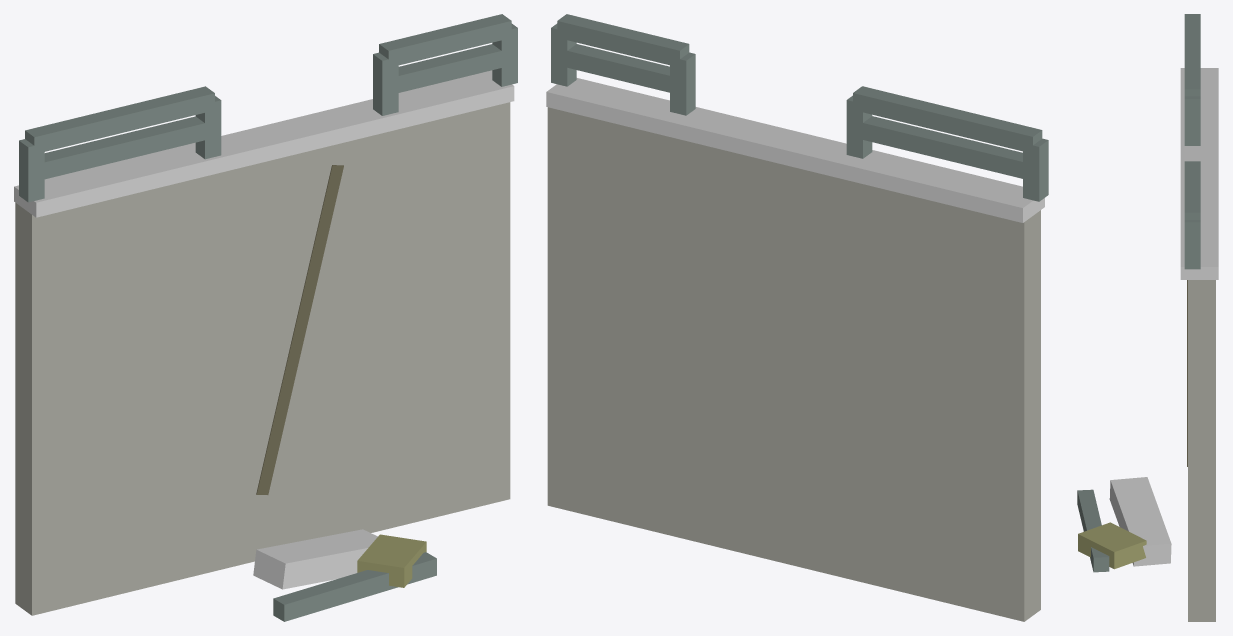
File: SM_MuroTrinchera_Muro_v3_Agrietado_LOD1.fbx
The picture shows the model from 3 angles, left to right: view 1: azimuth 30°, elevation 25°; view 2: azimuth 150°, elevation 25°; view 3: azimuth 270°, elevation 25°; orthographic projection. The views are drawn at different scales.
Parts seen in each view (by area): view 1: SM_muro_trinchera_v3_LOD1; view 2: SM_muro_trinchera_v3_LOD1; view 3: SM_muro_trinchera_v3_LOD1.
Part boxes in pixels (box(x1,y1,x2,y2)): SM_muro_trinchera_v3_LOD1: box(14, 14, 517, 621); SM_muro_trinchera_v3_LOD1: box(546, 14, 1048, 621); SM_muro_trinchera_v3_LOD1: box(1077, 14, 1218, 621).
Size of the model in its own units: 10.22 by 9.76 by 2.99.
